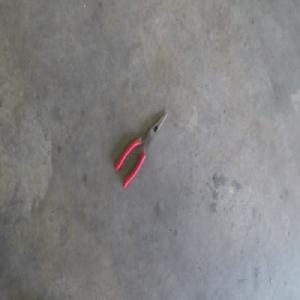Pliers: (114, 110, 168, 189)
